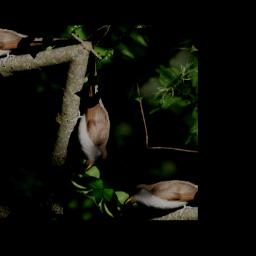Cuckoo: (19, 48, 163, 176)
